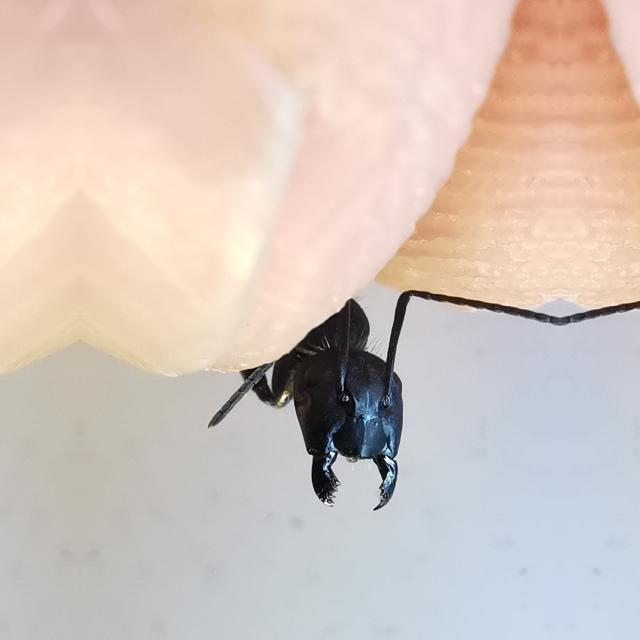Camponotus: (230, 255, 528, 531)
